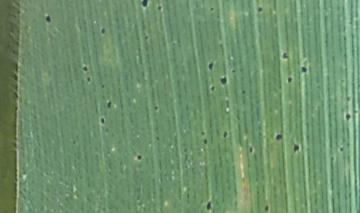tarspot: (137, 1, 154, 13), (43, 11, 55, 27), (290, 140, 302, 155), (273, 130, 285, 144), (218, 73, 230, 87), (279, 50, 291, 63), (205, 58, 216, 72), (298, 62, 309, 76), (102, 98, 117, 108), (80, 62, 93, 73), (97, 114, 108, 127), (204, 199, 215, 212), (284, 75, 297, 86), (262, 202, 274, 213), (207, 82, 218, 94), (141, 32, 153, 43), (343, 110, 353, 123), (254, 3, 264, 16), (153, 133, 164, 144), (84, 74, 94, 86), (134, 151, 144, 163), (239, 86, 249, 98), (337, 143, 346, 156), (97, 25, 107, 36), (151, 102, 161, 113), (220, 129, 231, 139), (96, 82, 108, 91), (246, 145, 257, 154), (200, 138, 211, 147), (198, 128, 208, 137), (156, 4, 165, 13), (207, 5, 216, 13)
